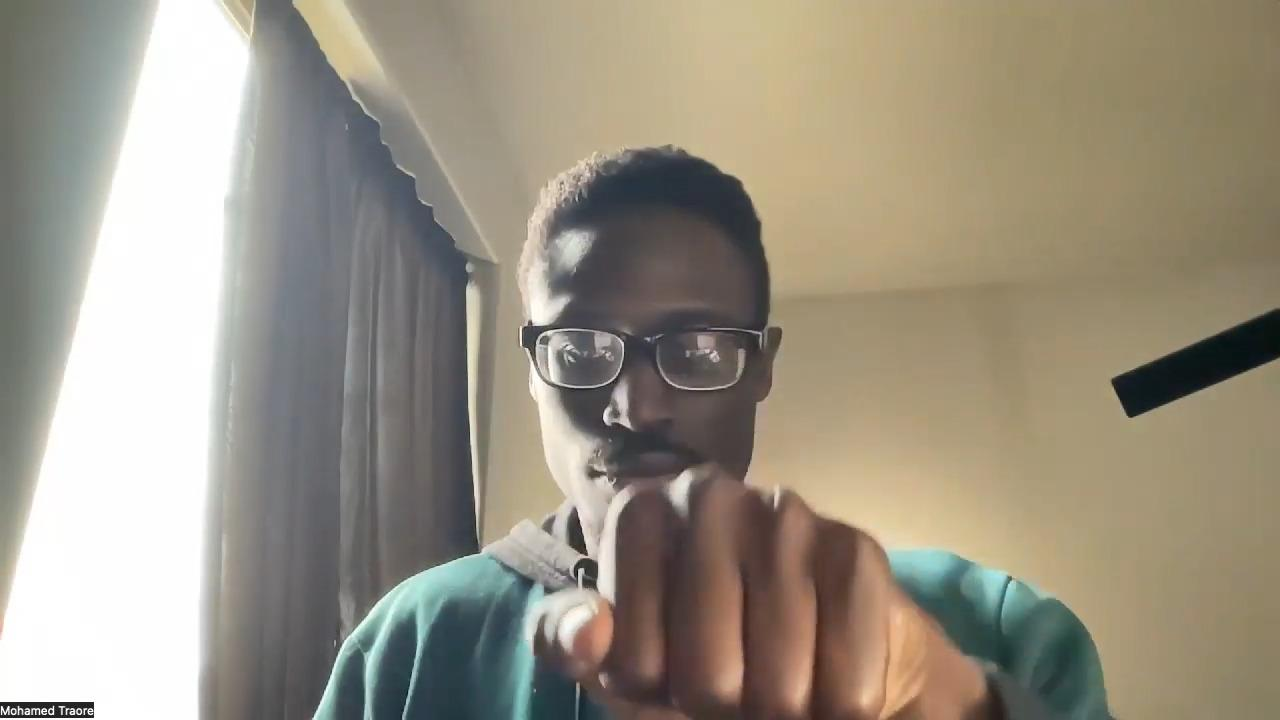Rock: (525, 460, 938, 720)
